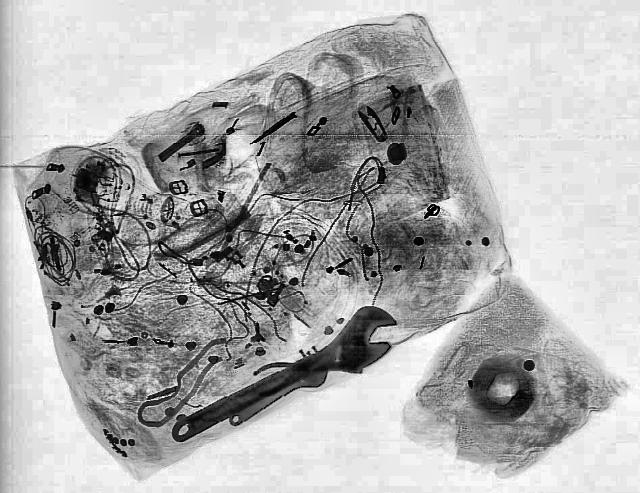Wrench: (150, 298, 420, 460)
